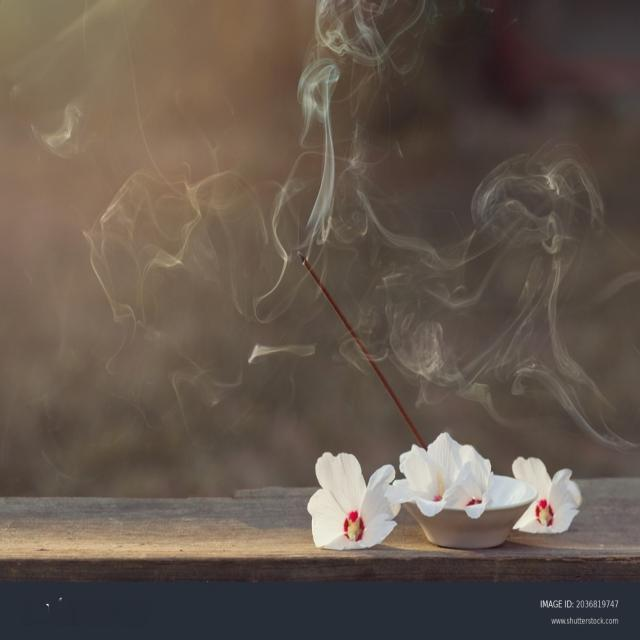Agarbatti: (292, 238, 433, 444)
